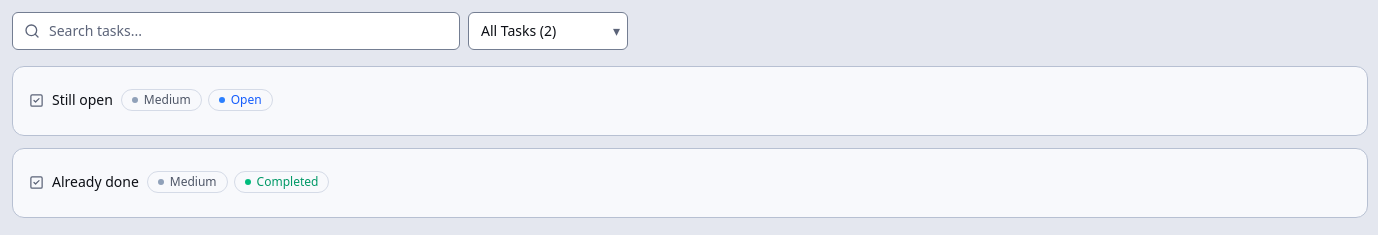
Test case: EntityTasksTab Open filter on a full list › shows only open tasks, not completed ones
The image size is (1378, 235).
Click the button "All Tasks (2) ▾".
click(548, 31)  # box [468,12,628,50]
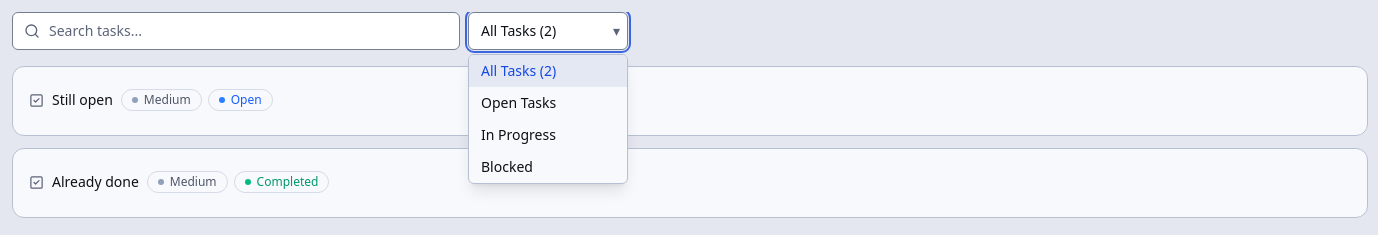
Click the option "Open Tasks".
click(519, 102)  # box [481,93,556,112]
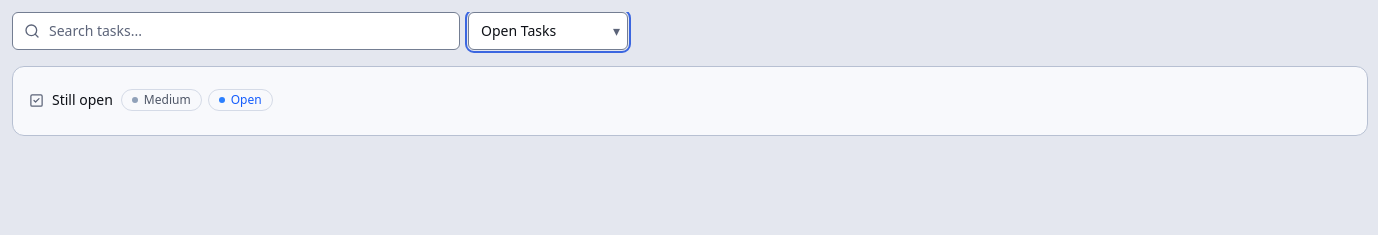
Check: the text "Still open" is shown, box [29,90,113,110]
Check: the text "Already done" is gone
